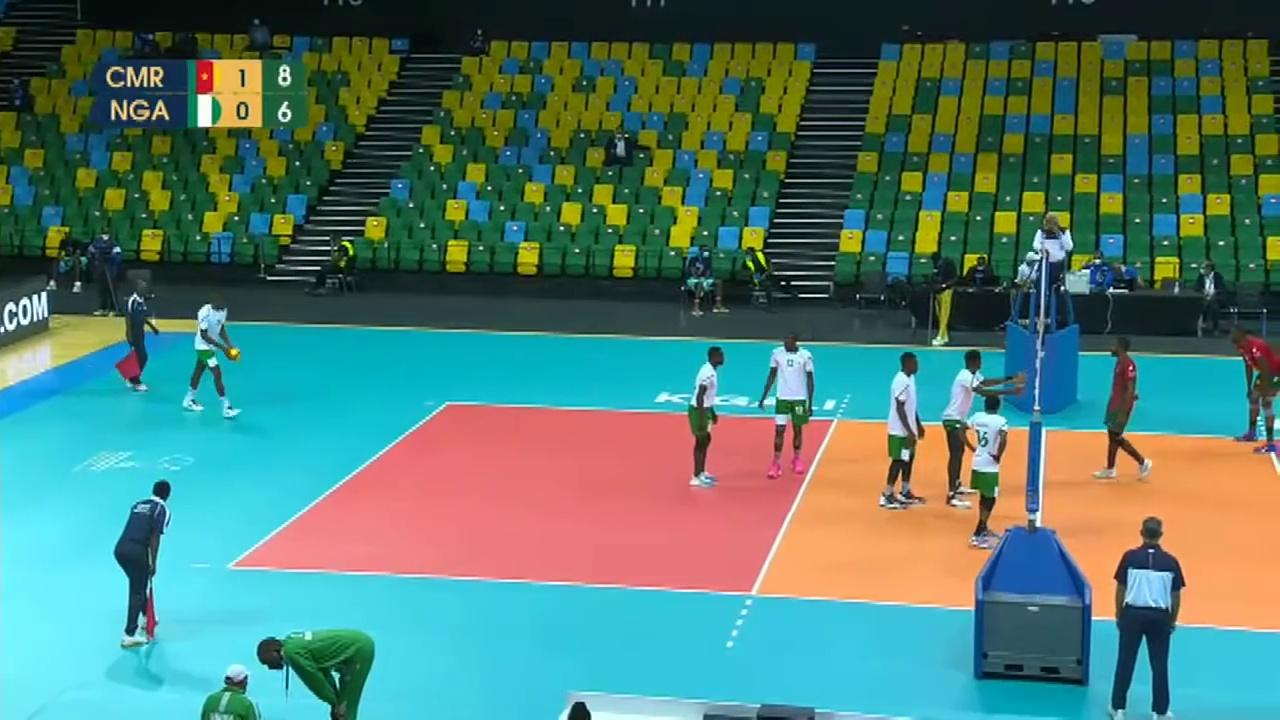player: (941, 340, 1009, 507), (662, 350, 725, 486), (956, 392, 1006, 556), (761, 336, 818, 479), (1096, 339, 1147, 482), (882, 354, 929, 509), (181, 298, 240, 417), (1233, 330, 1276, 449)
refree: (1110, 518, 1190, 719), (114, 483, 172, 641), (1029, 211, 1078, 319), (124, 283, 160, 390)
